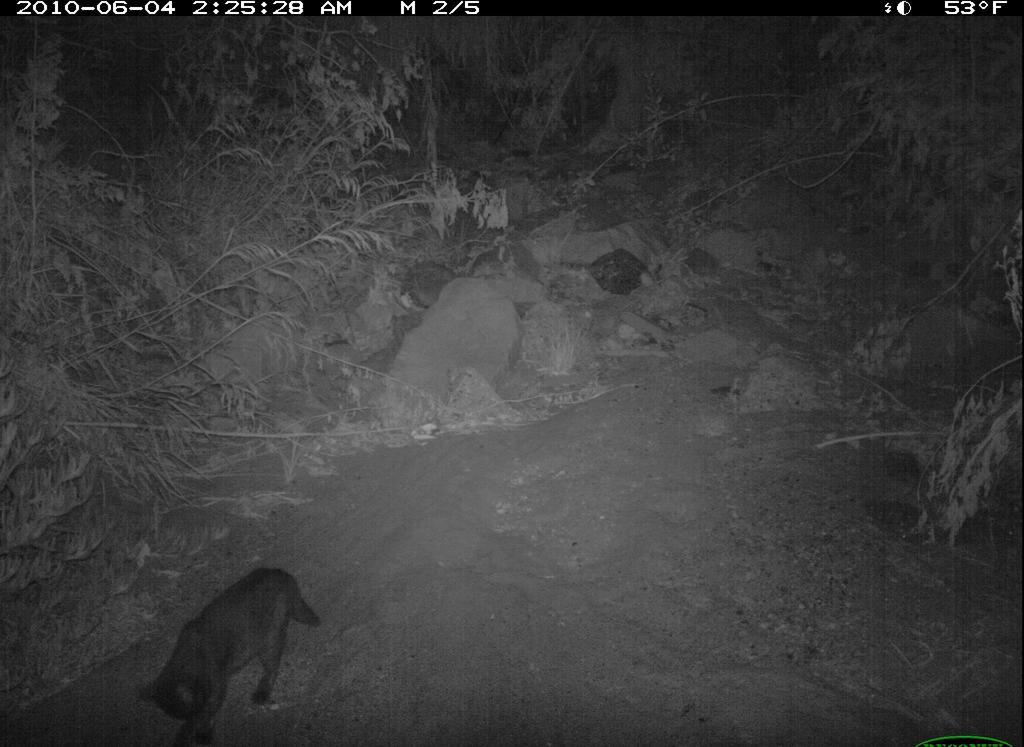cat: (130, 561, 323, 747)
